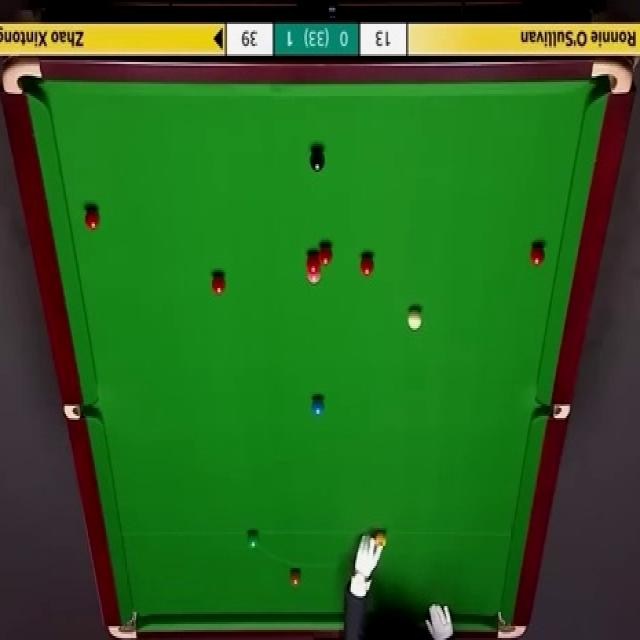pocket: (0, 58, 42, 100), (592, 58, 630, 96), (109, 608, 138, 640), (497, 606, 526, 637), (535, 400, 570, 423), (64, 403, 102, 419)
